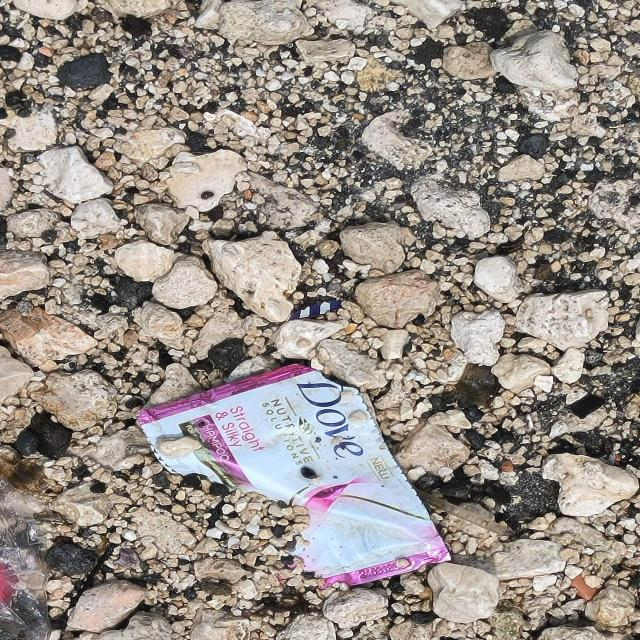plastic_waste: (135, 363, 454, 589)
